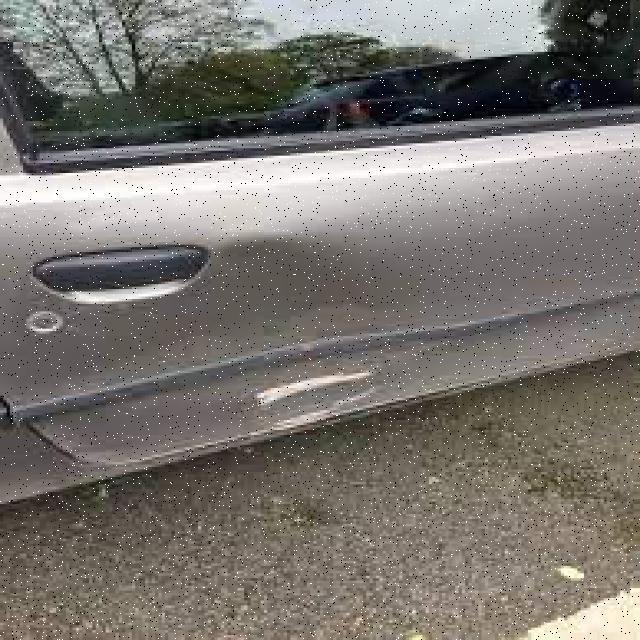doorouter-dent: (3, 148, 637, 440)
